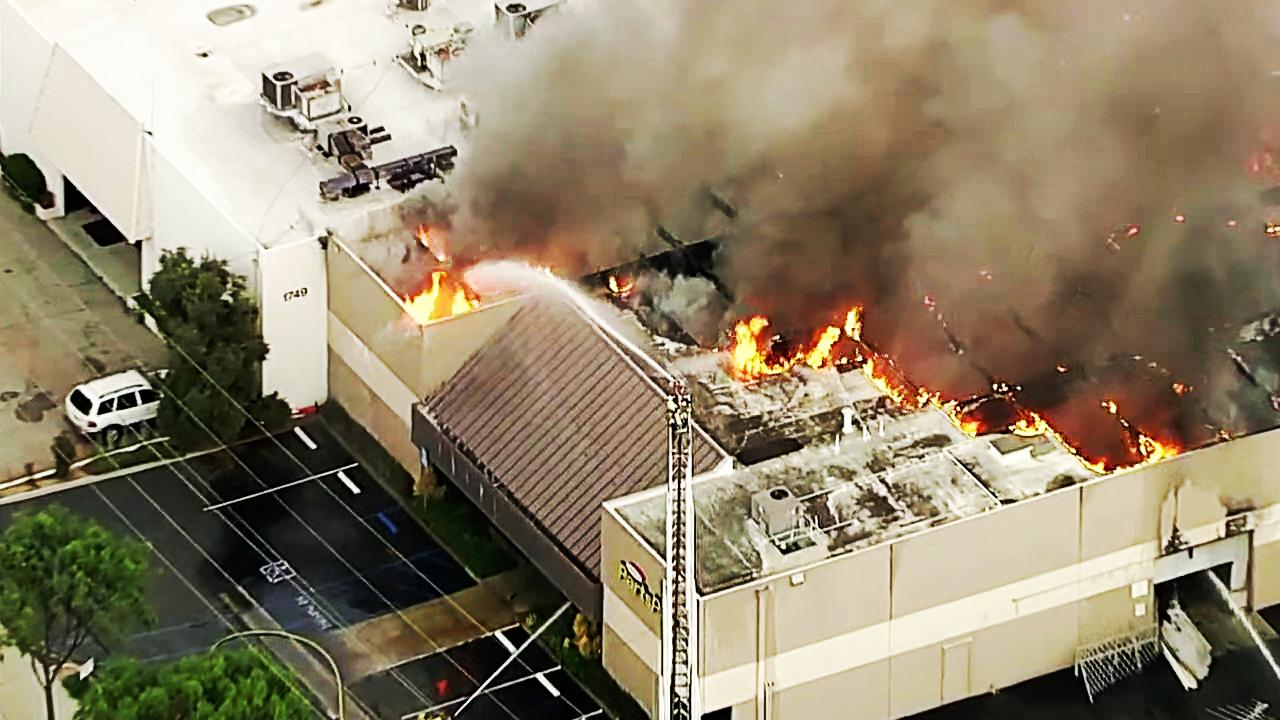fire: (734, 307, 857, 380), (402, 245, 477, 316)
smoke: (737, 29, 1117, 277)
